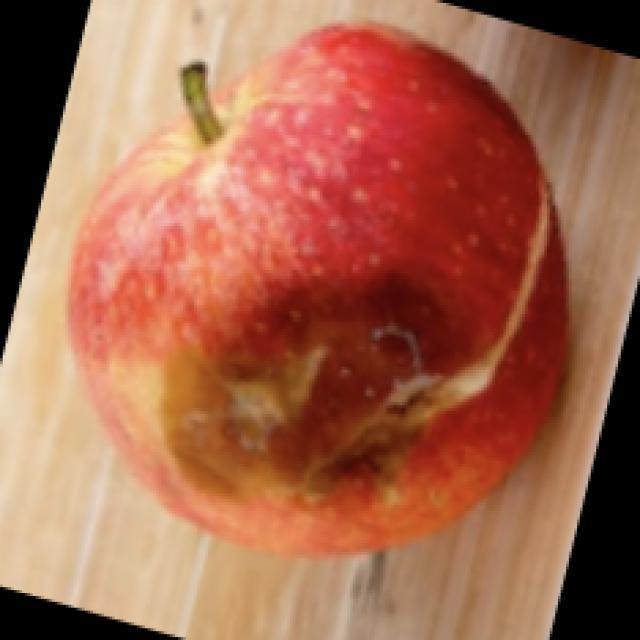Rotten: (67, 25, 580, 570)
